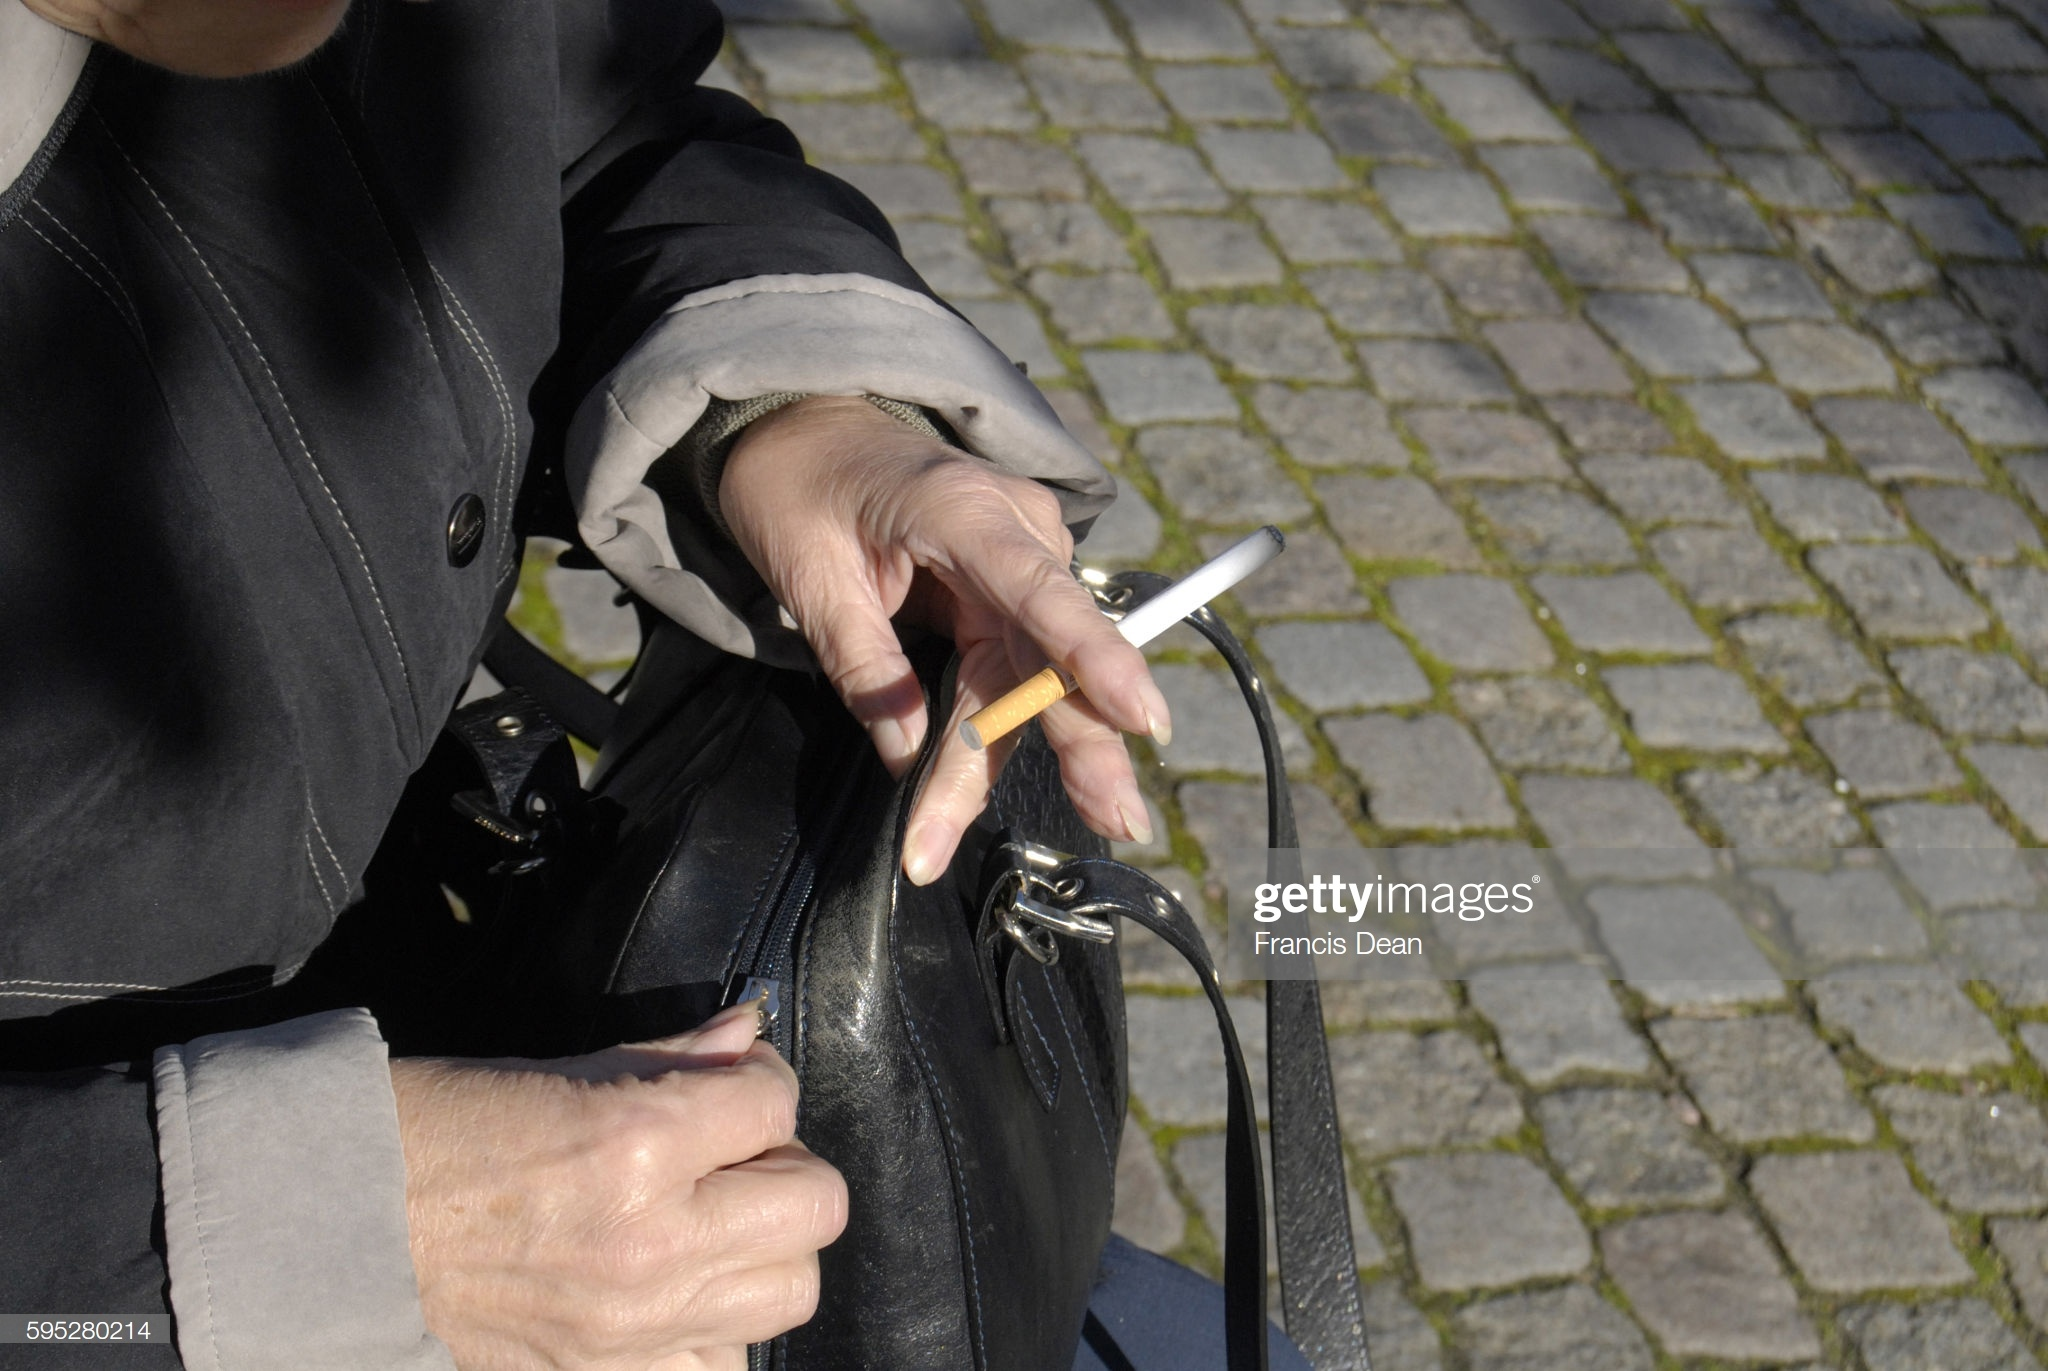sigaretta: (965, 532, 1289, 745)
